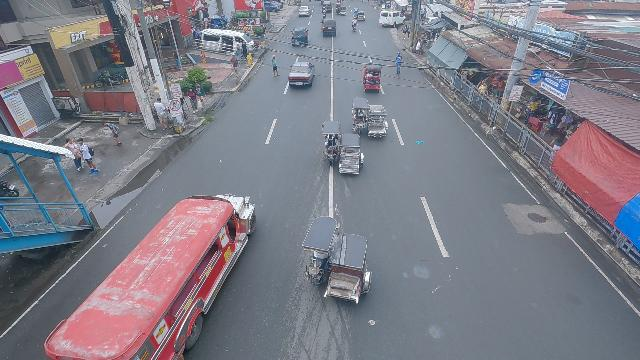car: (287, 62, 315, 88), (291, 26, 309, 46), (321, 19, 337, 37), (263, 0, 283, 12), (298, 6, 311, 17), (321, 1, 332, 13)
jeepney: (41, 189, 258, 360)
motorcycle: (351, 18, 357, 31), (322, 9, 327, 18)
van: (197, 27, 254, 57), (379, 10, 405, 28)
